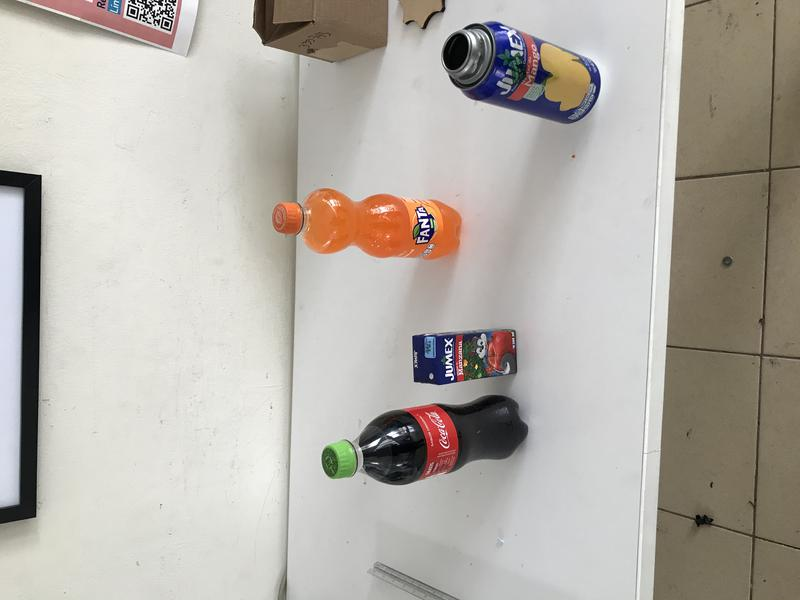coca_cola: (320, 396, 530, 484)
fanta: (273, 188, 462, 261)
jumex_botella: (442, 22, 602, 125)
jumex_cajita: (413, 328, 519, 386)
